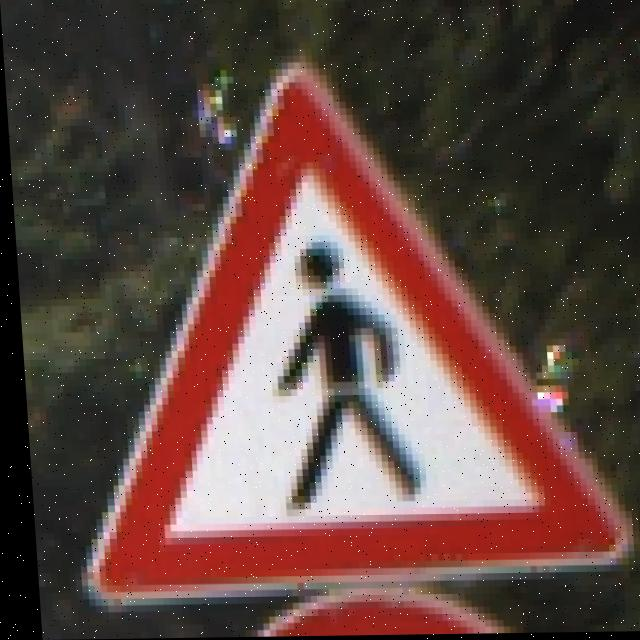crosswalk: (49, 65, 620, 565)
